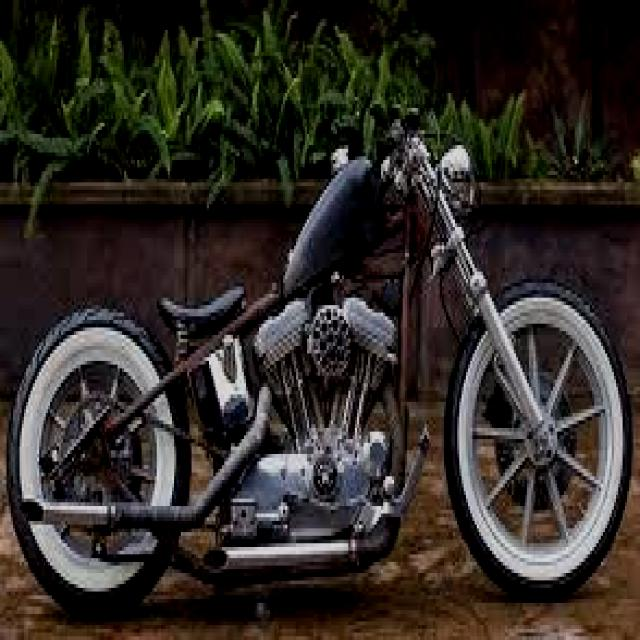MOTORCYCLE: (8, 128, 635, 606)
